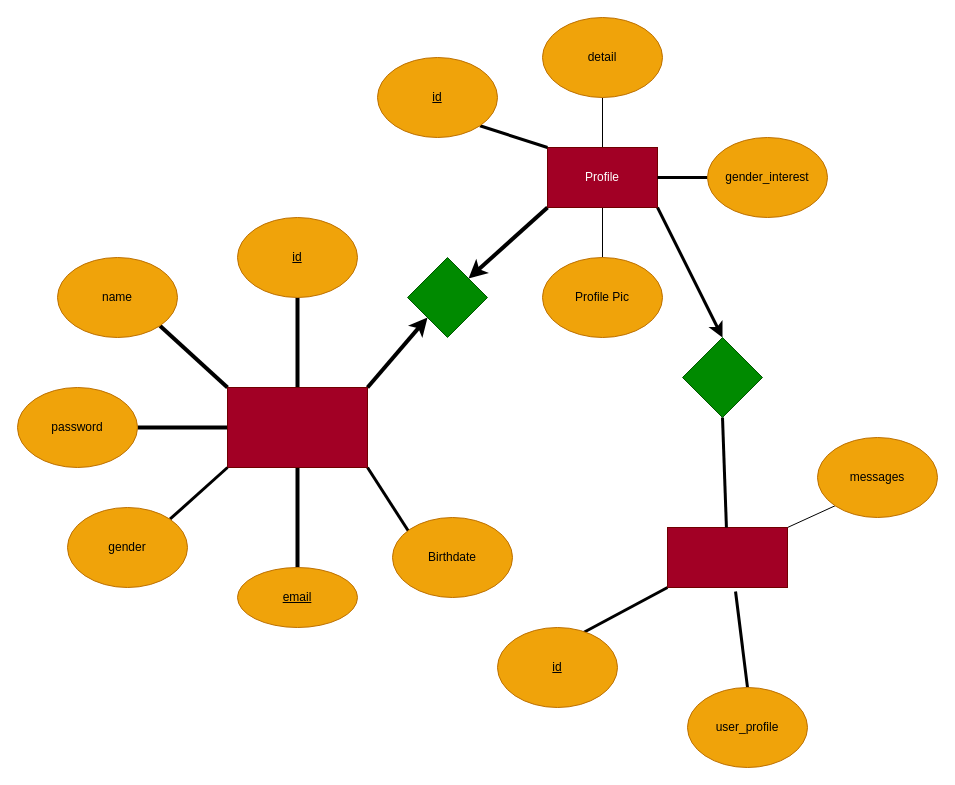
Some shapes in this 955 by 785 pixel diagram are drawn without their labels. Here are the shapes that lost their labels. From the top down, the centre of each, then its label:
point (447, 297): has a
point (722, 377): has
point (297, 427): Users
point (727, 557): Matches
